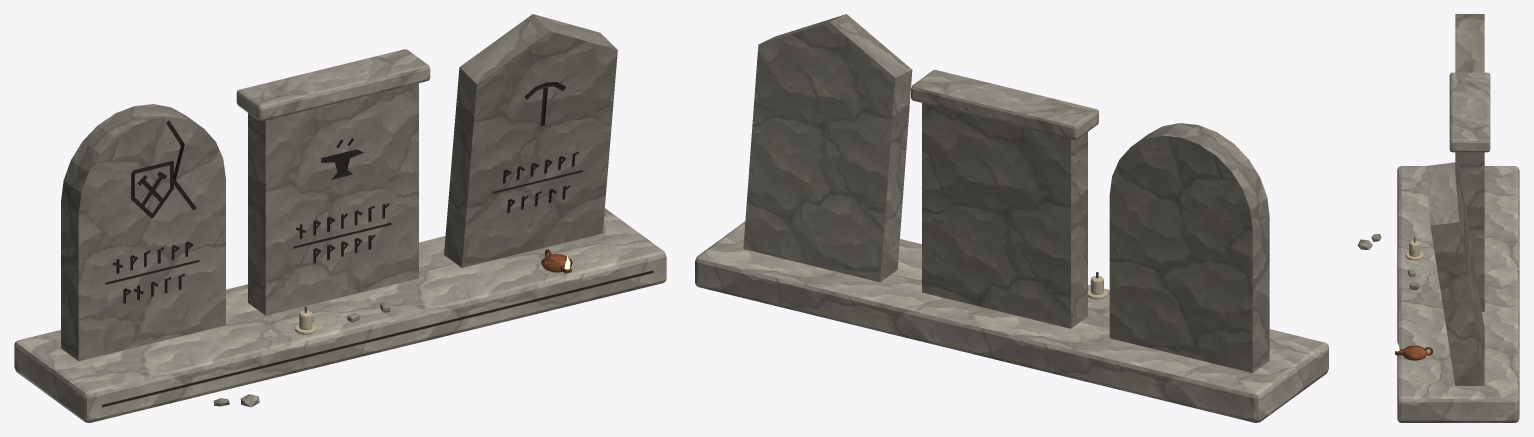
The model's file is qb_headstone_row.glb.
The picture shows the model from 3 angles, left to right: view 1: azimuth 30°, elevation 25°; view 2: azimuth 150°, elevation 25°; view 3: azimuth 270°, elevation 25°; orthographic projection. The views are drawn at different scales.
Visible parts, largest first — view 1: model; view 2: model; view 3: model.
Part boxes in pixels (bbox=[...]): model: bbox=[14, 14, 666, 422]; model: bbox=[695, 14, 1328, 422]; model: bbox=[1357, 14, 1519, 422].
Bounding box in the file's own units: 1.9 × 0.8418 × 0.5562.
8 materials, 4 textured.
